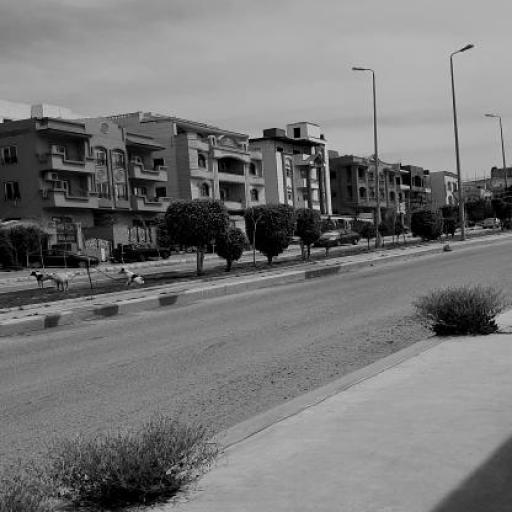street light: (351, 67, 383, 246), (449, 43, 474, 240), (484, 114, 510, 208)
